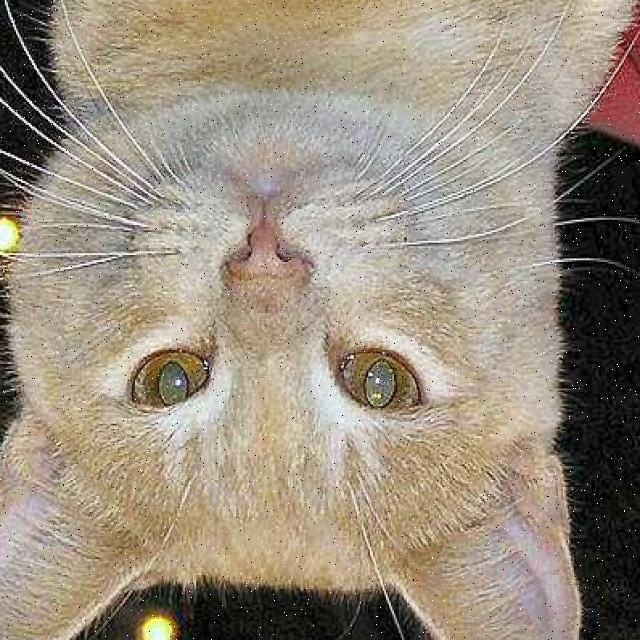Cat: (0, 76, 567, 640)
